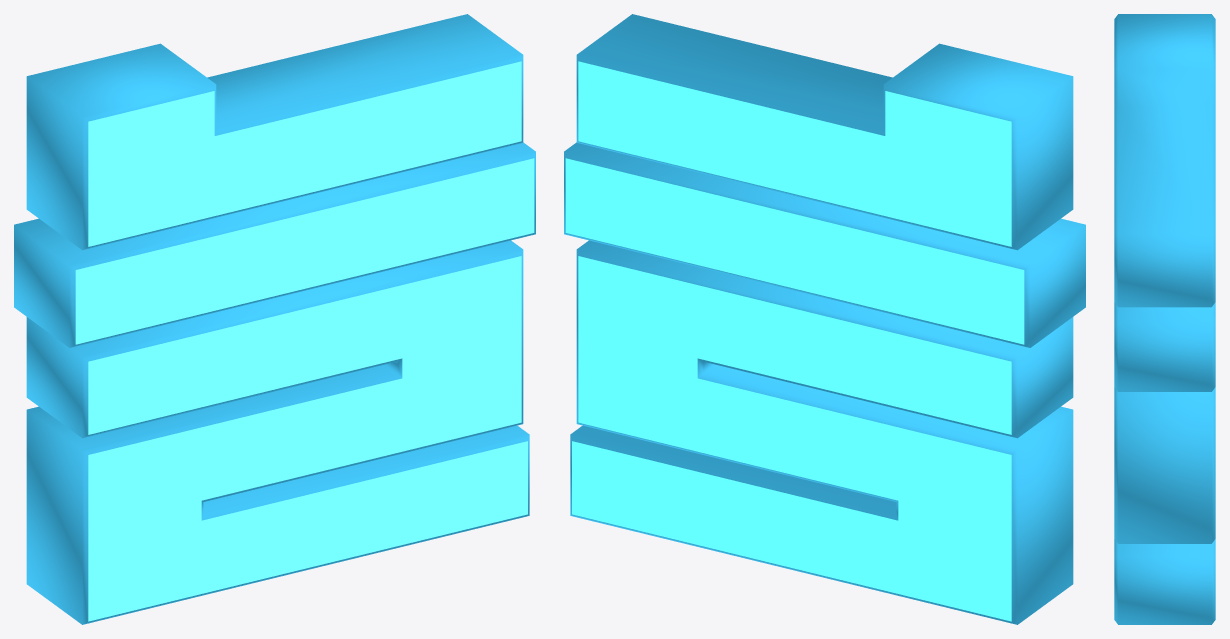
The picture shows the model from 3 angles, left to right: view 1: azimuth 30°, elevation 25°; view 2: azimuth 150°, elevation 25°; view 3: azimuth 270°, elevation 25°; orthographic projection. The views are drawn at different scales.
Visible parts, largest first — view 1: glyph; view 2: glyph; view 3: glyph.
Boxes of the visible parts, left/top/right/bottom form: glyph: left=14, top=14, right=535, bottom=624; glyph: left=564, top=14, right=1085, bottom=624; glyph: left=1114, top=14, right=1215, bottom=624.
Bounding box in the file's own units: 0.0726 × 0.0756 × 0.0162.
